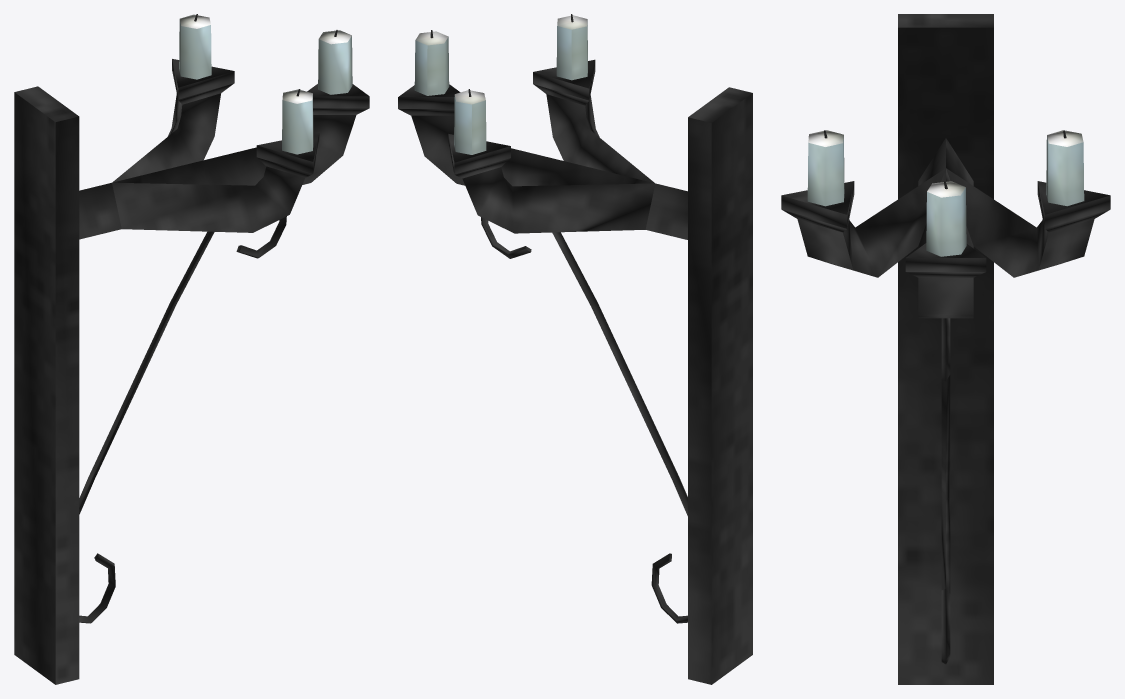
Rendered from MS_Candle_Wallholder.fbx.
The picture shows the model from 3 angles, left to right: view 1: azimuth 30°, elevation 25°; view 2: azimuth 150°, elevation 25°; view 3: azimuth 270°, elevation 25°; orthographic projection. The views are drawn at different scales.
Parts seen in each view (by area): view 1: MSH_Sign_Holder, MSH_Candles, MSH_Candles.002, MSH_Candles.001; view 2: MSH_Sign_Holder, MSH_Candles, MSH_Candles.002, MSH_Candles.001; view 3: MSH_Sign_Holder, MSH_Candles, MSH_Candles.002, MSH_Candles.001.
Boxes of the visible parts, x1,y1,x2,y2 form: MSH_Sign_Holder: (14,59,369,684); MSH_Candles: (318,30,352,94); MSH_Candles.002: (179,14,211,79); MSH_Candles.001: (282,89,313,154); MSH_Sign_Holder: (398,59,752,684); MSH_Candles: (414,30,449,95); MSH_Candles.002: (454,89,486,154); MSH_Candles.001: (556,14,587,80); MSH_Sign_Holder: (781,14,1110,684); MSH_Candles: (926,181,966,256); MSH_Candles.002: (1046,130,1084,206); MSH_Candles.001: (807,130,844,206).
Bounding box in the file's own units: 40.07 × 68.36 × 30.85.
